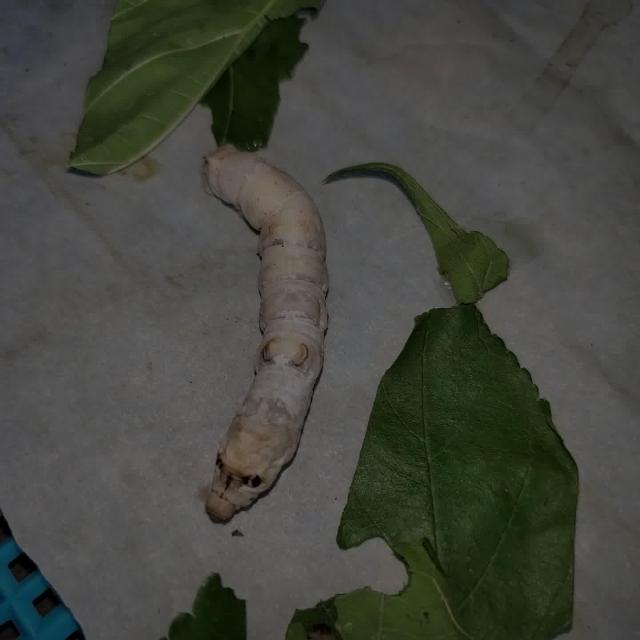Grasserie: (179, 131, 335, 530)
